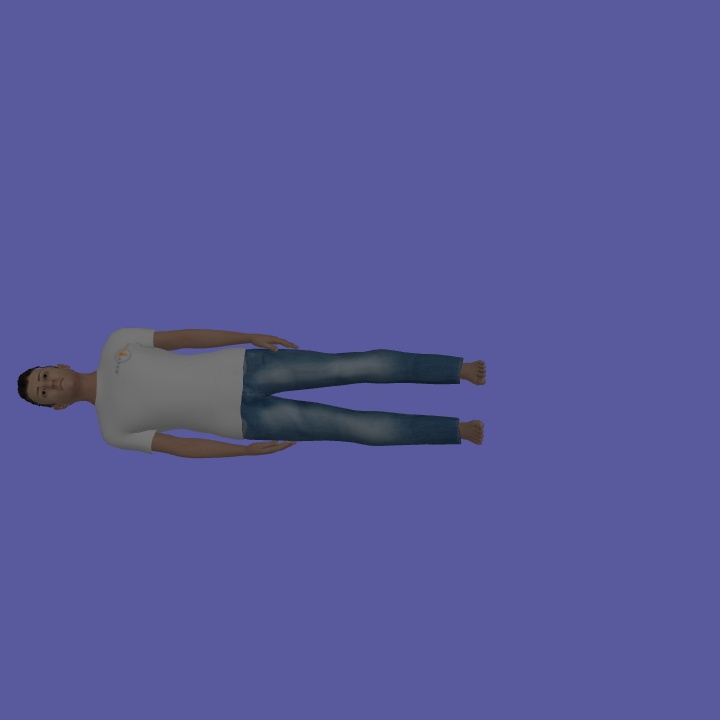victim: (13, 324, 489, 458)
